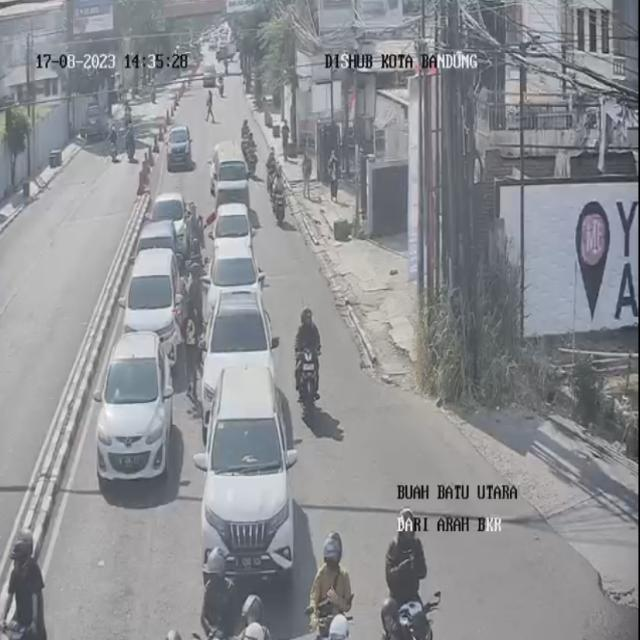cars: (206, 360, 300, 590), (94, 327, 172, 483), (203, 285, 276, 430), (123, 246, 183, 362), (138, 219, 186, 314), (208, 237, 263, 318), (210, 201, 253, 263), (211, 143, 247, 208), (152, 190, 189, 248), (138, 222, 183, 264), (168, 120, 192, 172)
motorcycle: (382, 501, 437, 640), (311, 530, 359, 640), (1, 531, 44, 639), (291, 301, 325, 423), (268, 158, 288, 228), (322, 615, 368, 640), (184, 214, 202, 274), (246, 124, 261, 182), (242, 115, 255, 158), (267, 150, 280, 191), (205, 90, 219, 128), (168, 95, 176, 129)
